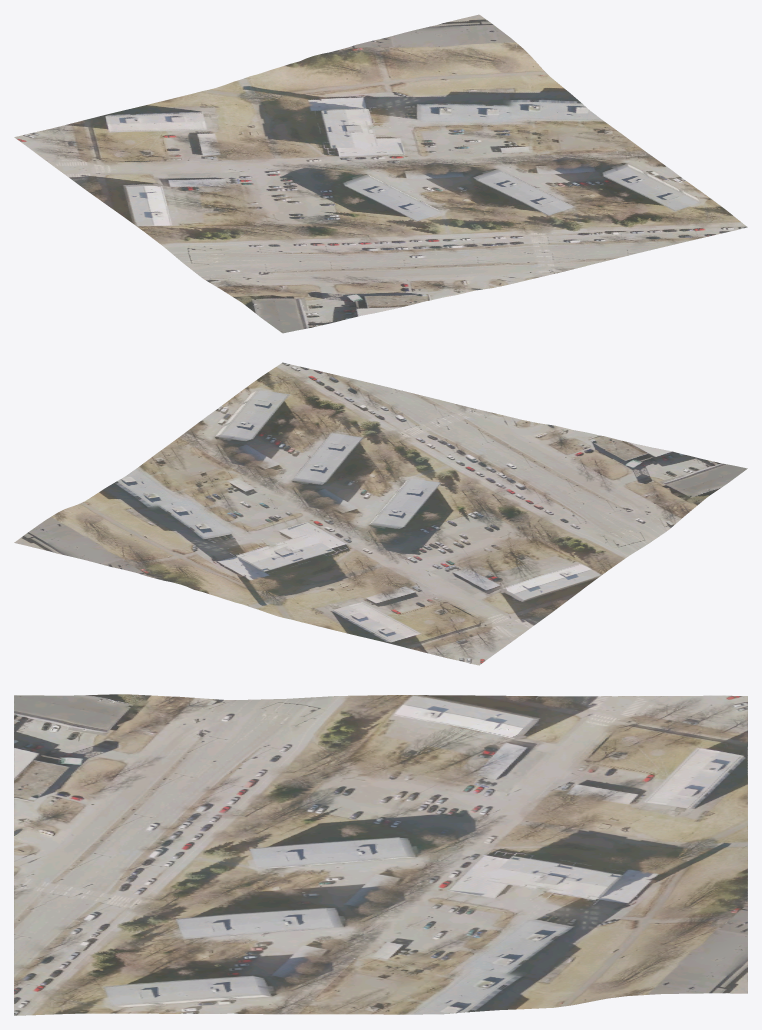
File: CM_Terrain_24489844_6820613.fbx
3 views of the same model, one above another, from view 1: azimuth 30°, elevation 25°; view 2: azimuth 150°, elevation 25°; view 3: azimuth 270°, elevation 25° (orthographic). The views are drawn at different scales.
Parts seen in each view (by area): view 1: CM_Terrain_24489844_6820613_LOD0; view 2: CM_Terrain_24489844_6820613_LOD0; view 3: CM_Terrain_24489844_6820613_LOD0.
Part boxes in pixels (<box>): CM_Terrain_24489844_6820613_LOD0: <box>14,14,747,333</box>; CM_Terrain_24489844_6820613_LOD0: <box>14,362,747,665</box>; CM_Terrain_24489844_6820613_LOD0: <box>14,694,747,1015</box>.
Size of what is drawn, in the model's own units: 205 by 7.03 by 205.
